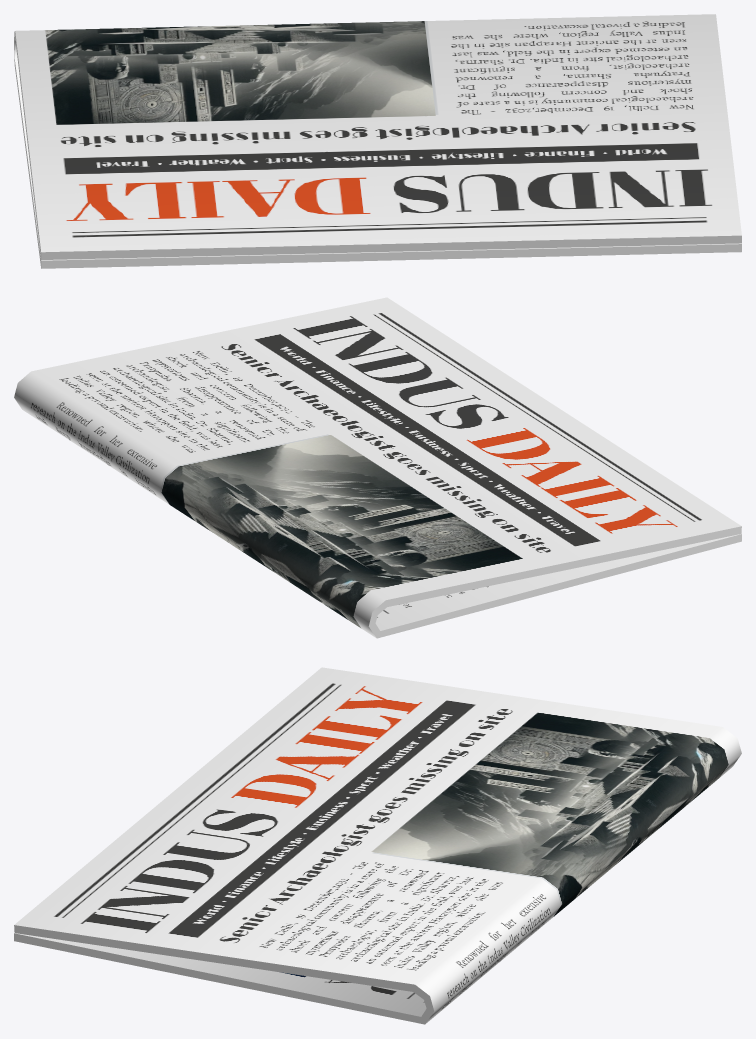
File: News Paper.fbx
The picture shows the model from 3 angles, top to bottom: view 1: azimuth 30°, elevation 25°; view 2: azimuth 150°, elevation 25°; view 3: azimuth 270°, elevation 25°; orthographic projection. The views are drawn at different scales.
Parts seen in each view (by area): view 1: Plane.002; view 2: Plane.002; view 3: Plane.002.
Boxes of the visible parts, bbox=[...] form: Plane.002: bbox=[14, 14, 741, 268]; Plane.002: bbox=[14, 297, 741, 638]; Plane.002: bbox=[14, 667, 741, 1024].
Bounding box in the file's own units: 94.1 × 5.31 × 83.35.
